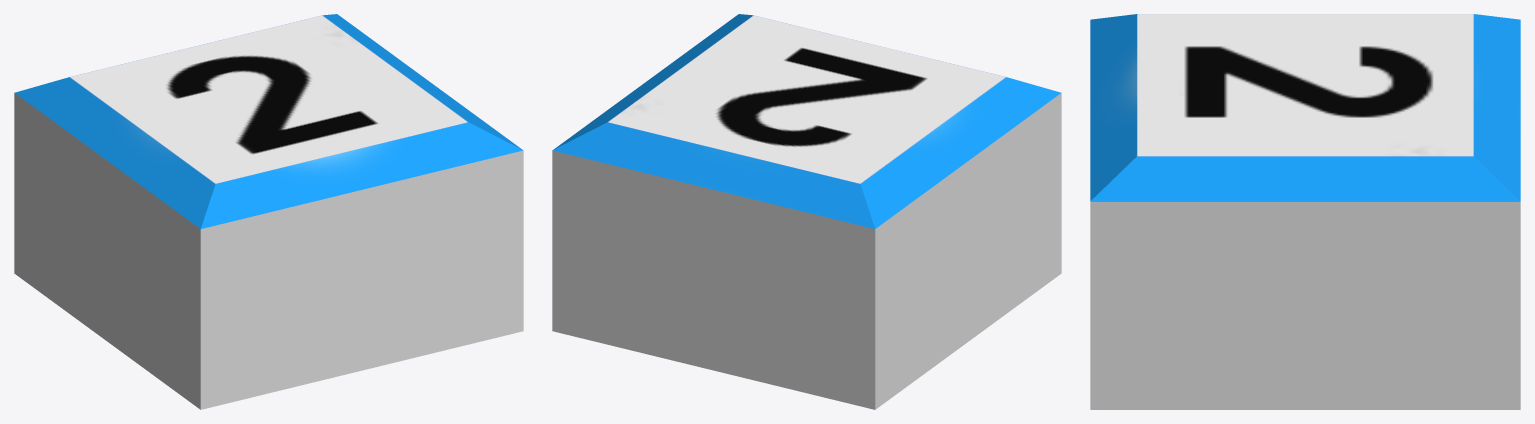
The picture shows the model from 3 angles, left to right: view 1: azimuth 30°, elevation 25°; view 2: azimuth 150°, elevation 25°; view 3: azimuth 270°, elevation 25°; orthographic projection. The views are drawn at different scales.
Parts seen in each view (by area): view 1: button.007; view 2: button.007; view 3: button.007.
Part boxes in pixels (x1,y1,x2,y2): button.007: (14,14,523,409); button.007: (552,14,1061,409); button.007: (1090,14,1520,409).
Size of the model in its own units: 20 by 12 by 20.
